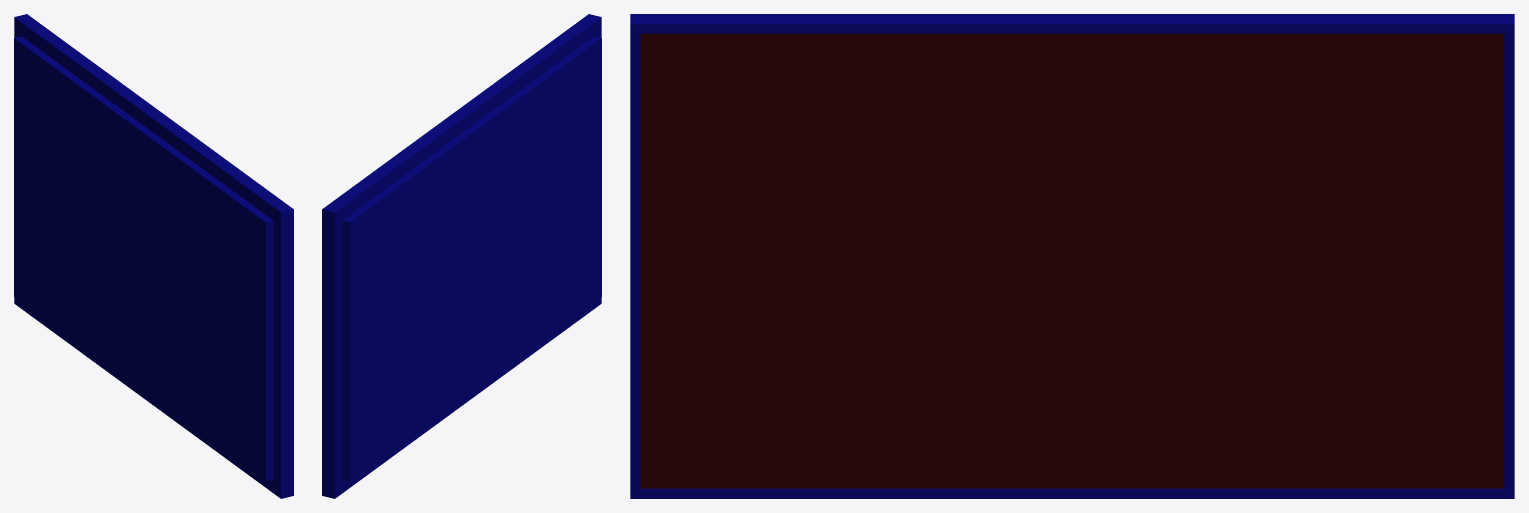
3 renders of one model, left to right at view 1: azimuth 30°, elevation 25°; view 2: azimuth 150°, elevation 25°; view 3: azimuth 270°, elevation 25°, orthographic. The views are drawn at different scales.
Parts seen in each view (by area): view 1: TV; view 2: TV; view 3: TV.
Part boxes in pixels (x1,y1,x2,y2): TV: (14,14,293,498); TV: (322,14,601,498); TV: (630,14,1514,498).
Bounding box in the file's own units: 1.57 × 20.98 × 35.42.
